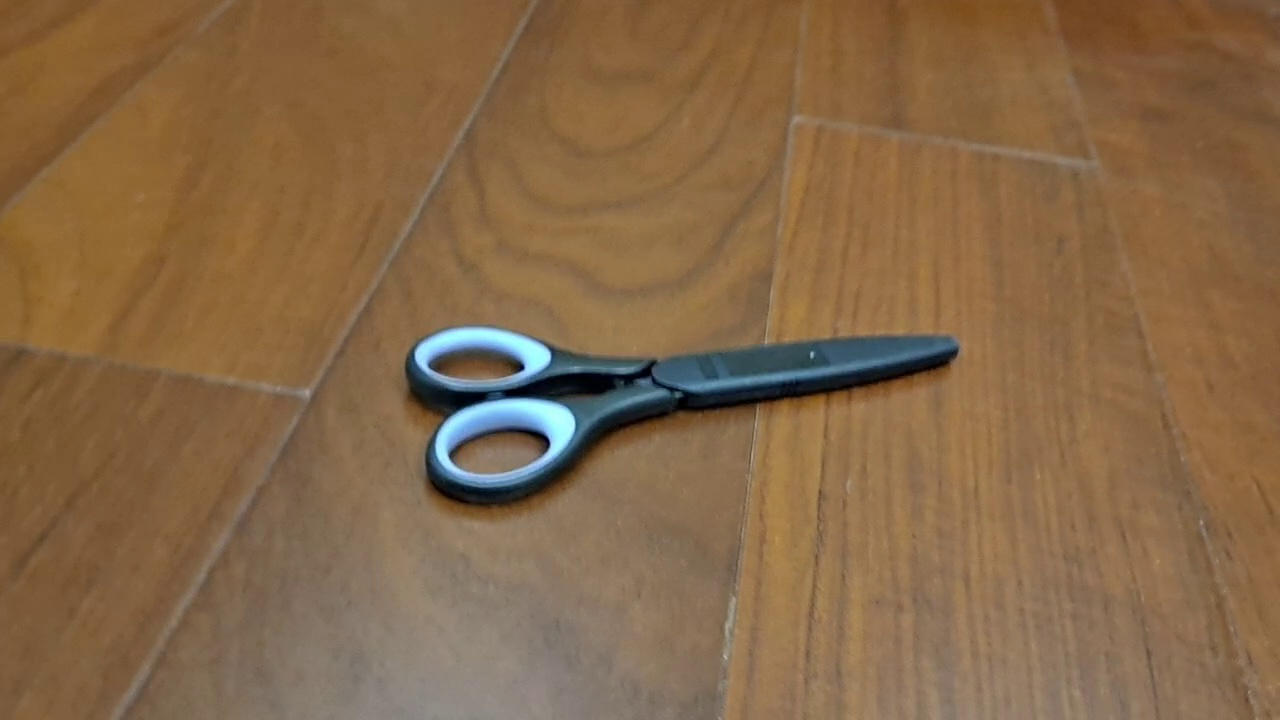scissors: (404, 323, 961, 507)
